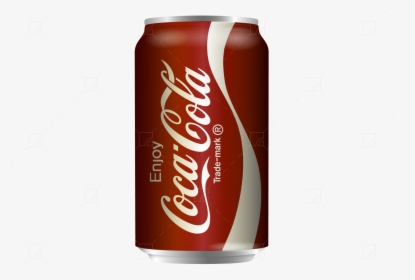can: (133, 15, 271, 266)
